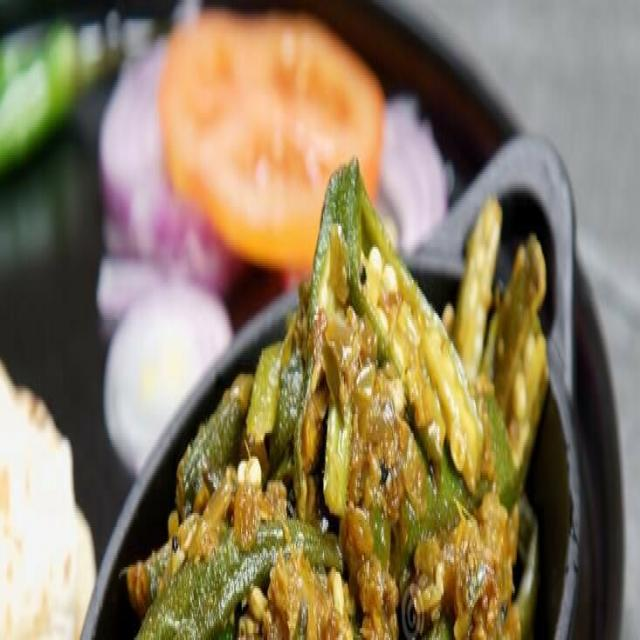BhindiMasala: (126, 155, 548, 640)
